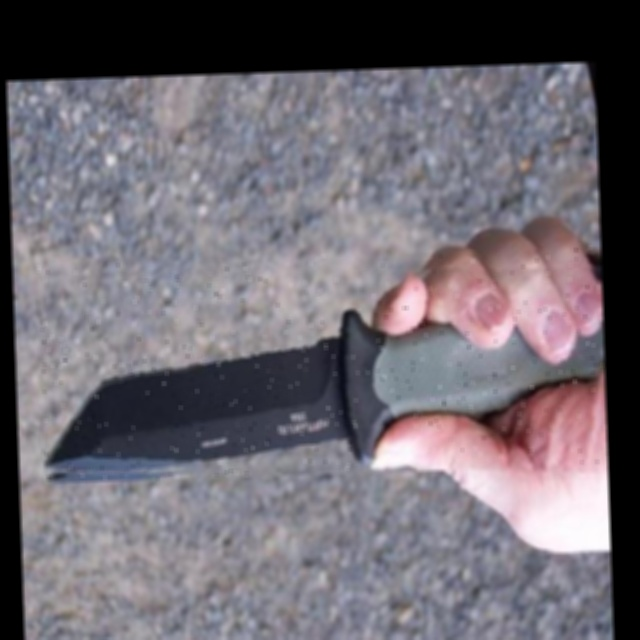Sharp-Object: (38, 246, 608, 483)
